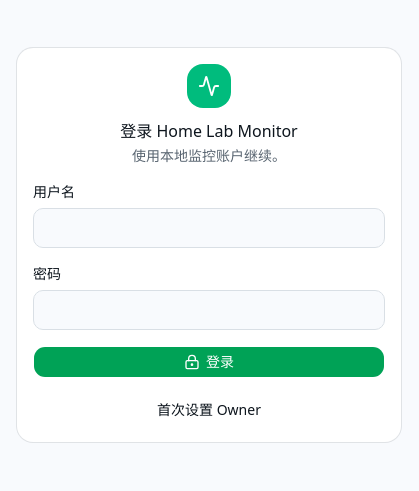
it: LoginScreen › shows a generic credential error without logging the password
Type "owner" into the field labelled "用户名" at (209, 228), box x1=33 y1=208 x2=385 y2=248
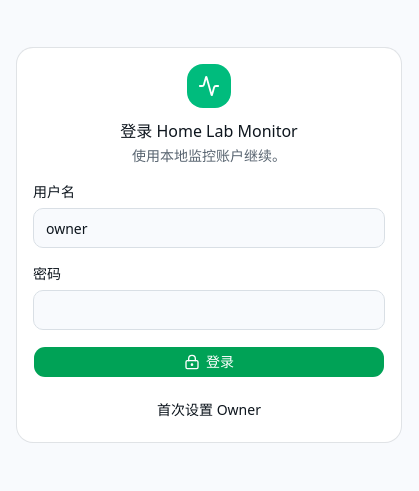
Type "secret" into the password field labelled "密码" at (209, 310), box x1=33 y1=290 x2=385 y2=330
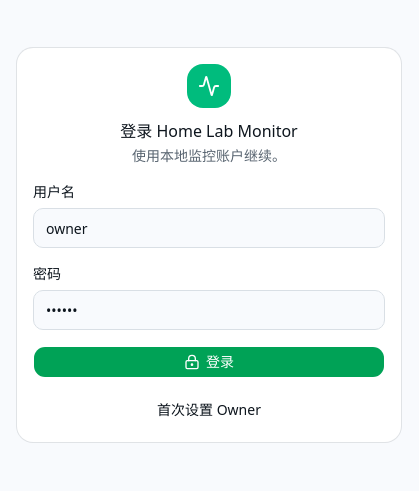
Click the button "登录" at (209, 362), box x1=33 y1=346 x2=385 y2=378
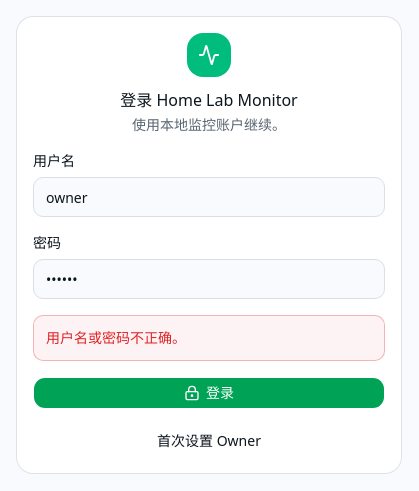
Expected: the message reads "用户名或密码不正确。", x1=46 y1=328 x2=186 y2=347
